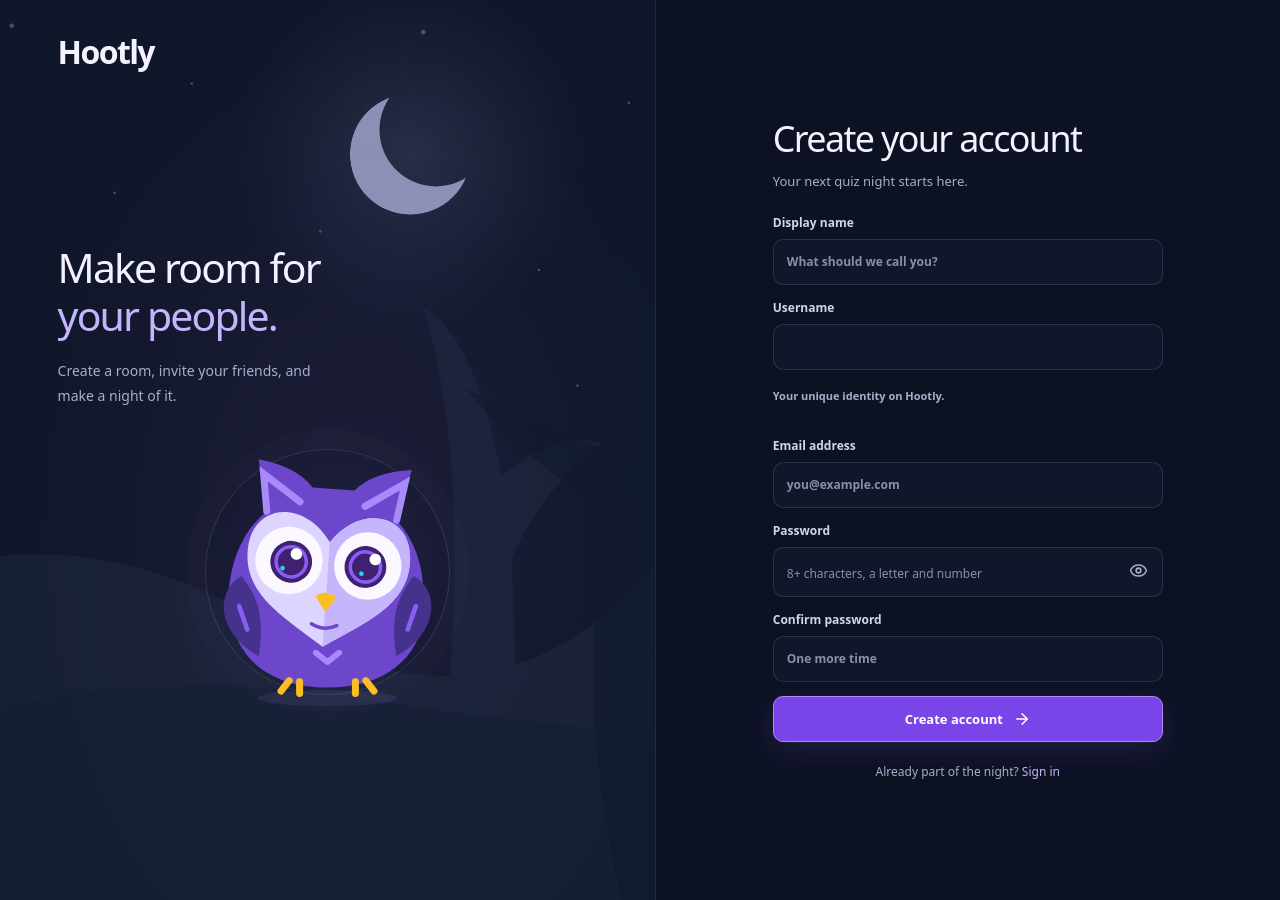
Test: rejects mismatched passwords before contacting registration
Type "Test Player" into the field labelled "Display name".
click(968, 262); type("Test Player")  # box [773,239,1163,285]
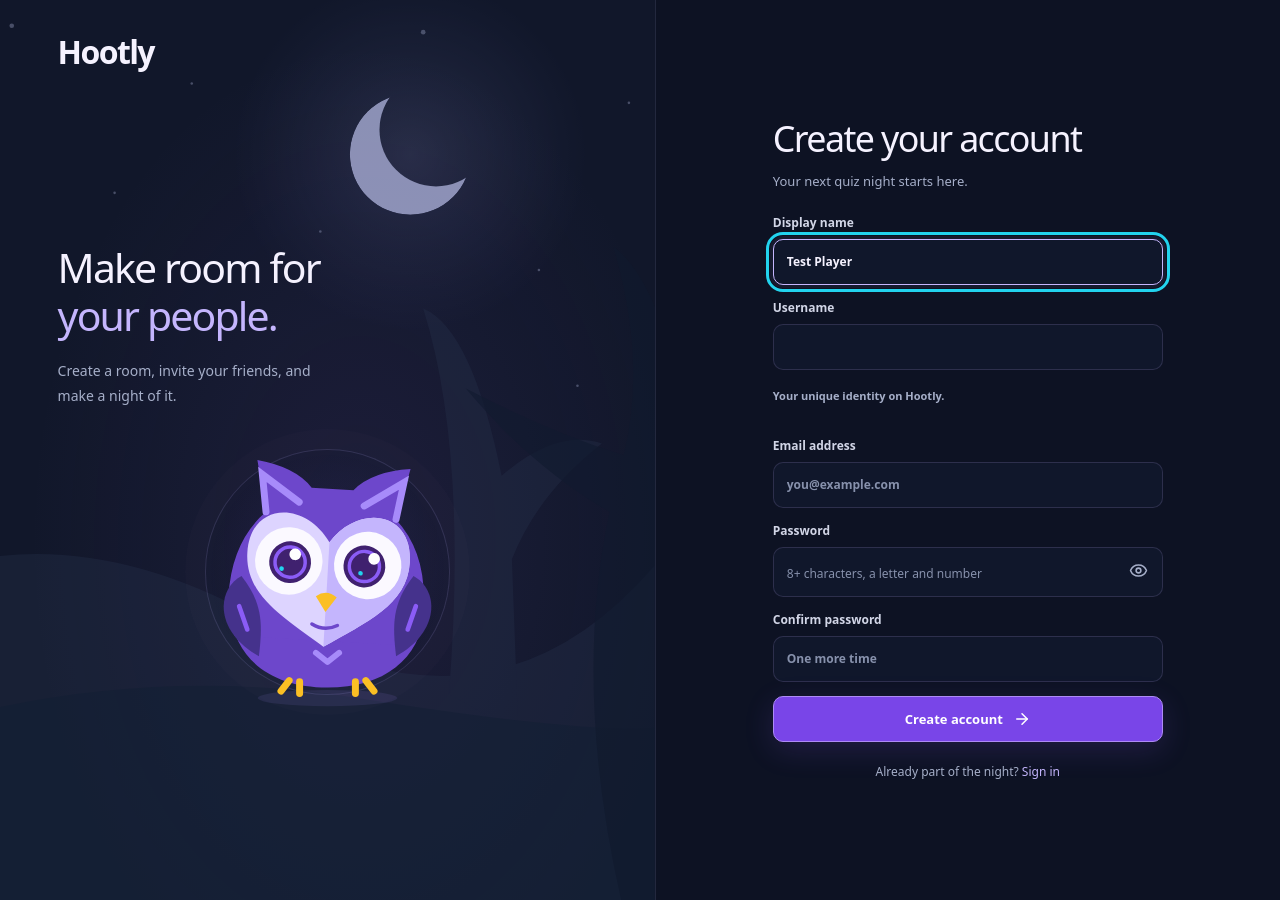
Type "player" into the field labelled "Username".
click(968, 347); type("player")  # box [773,324,1163,370]
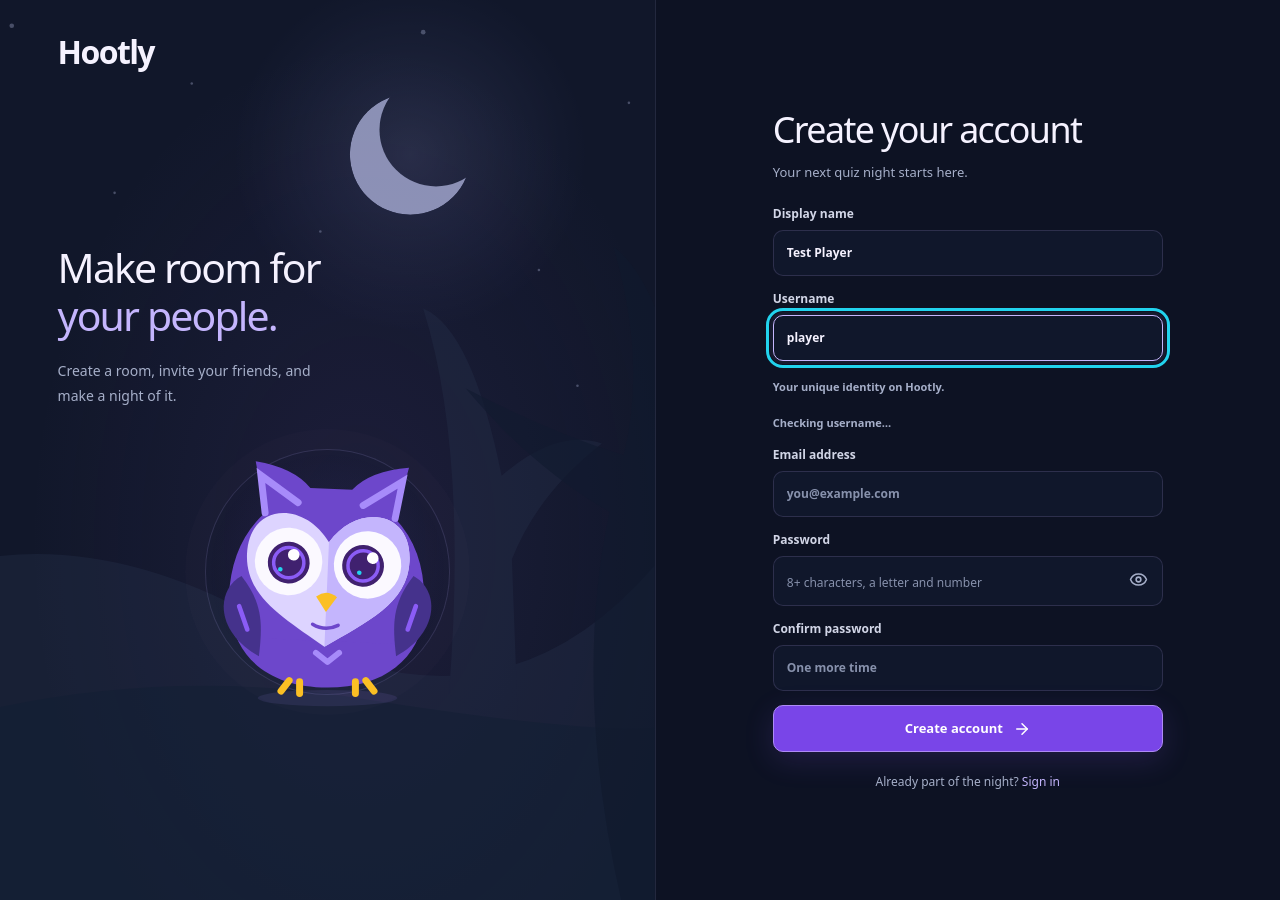
Type "player@example.com" into the field labelled "Email address".
click(968, 494); type("player@example.com")  # box [773,471,1163,517]
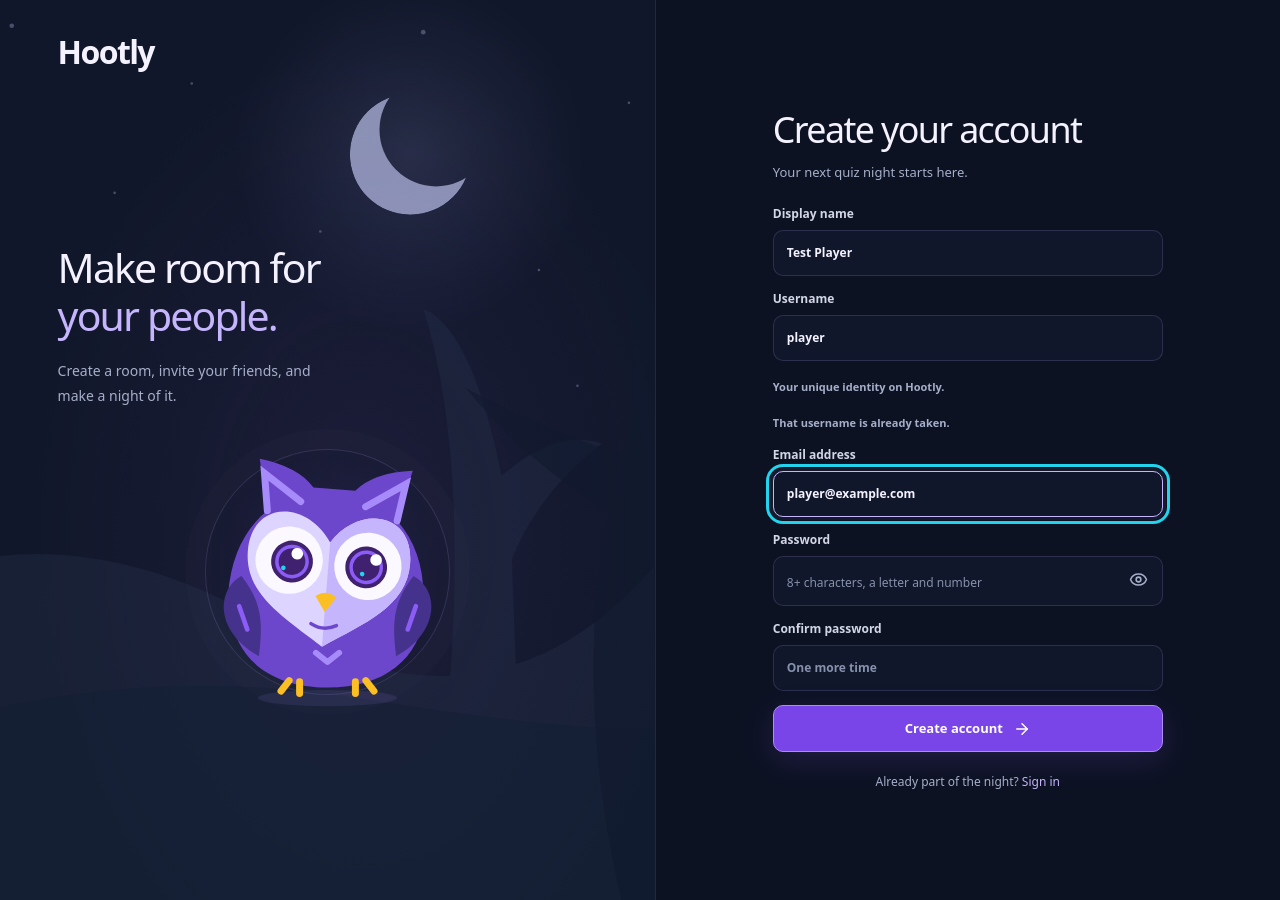
Type "ValidPassword42!" into the password field labelled "Password".
click(968, 581); type("ValidPassword42!")  # box [773,556,1163,606]
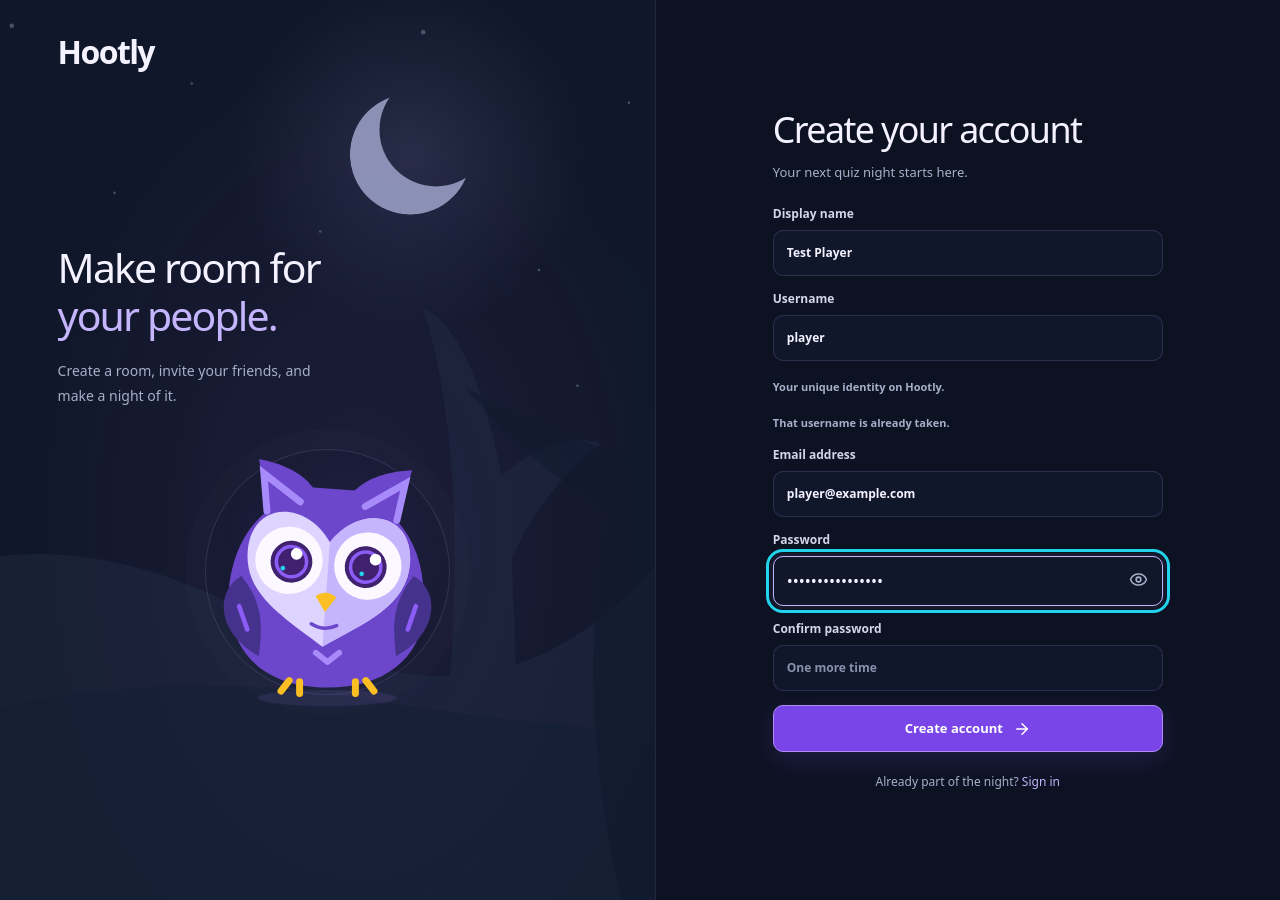
Type "DifferentPassword42!" into the password field labelled "Confirm password".
click(968, 668); type("DifferentPassword42!")  # box [773,645,1163,691]
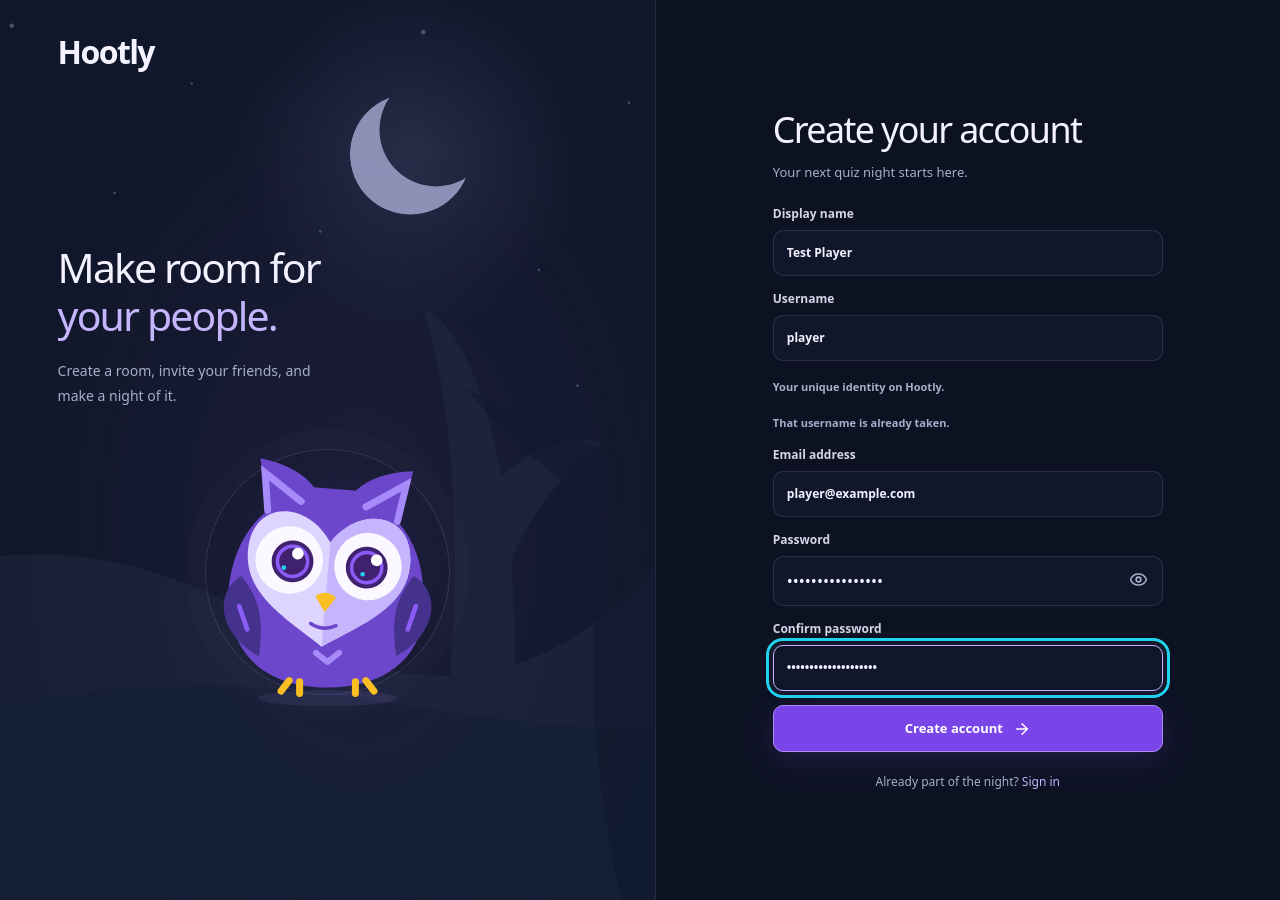
Click the button "Create account".
click(968, 728)  # box [773,705,1163,752]
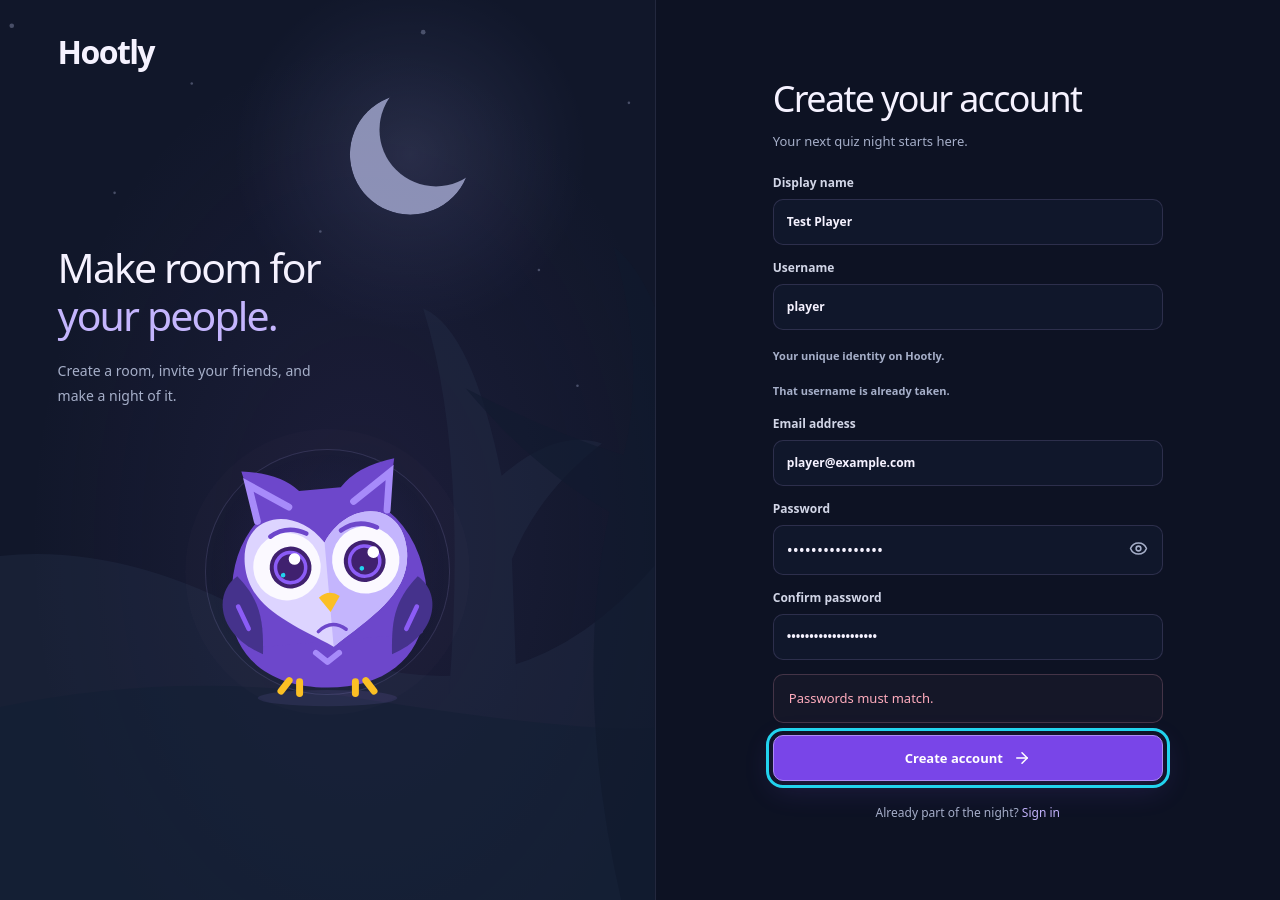
Result: the message "Passwords must match." is shown at [773,674,1163,723]
